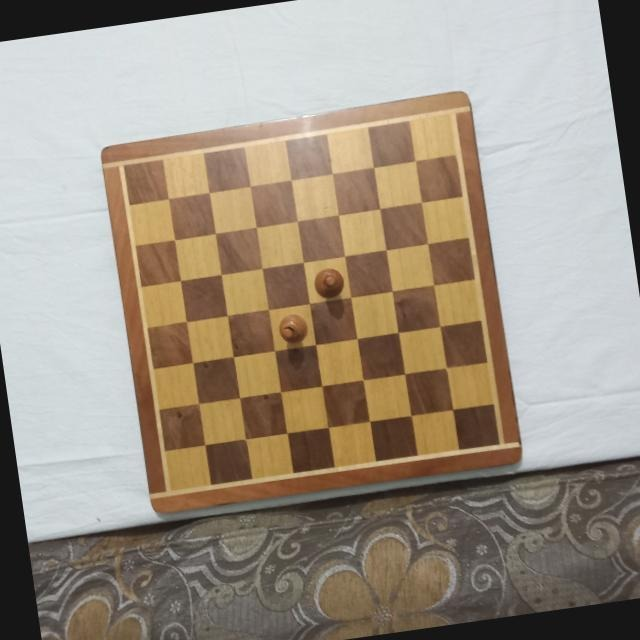white-bishop: (312, 263, 348, 300), (277, 309, 313, 345)
